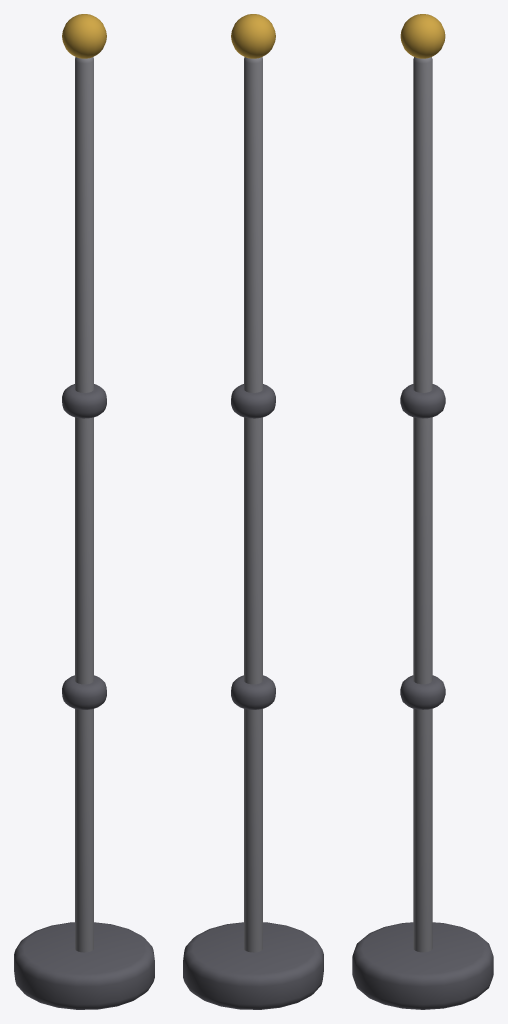
The model's file is lightning_rod.glb.
3 views of the same model, side by side, from view 1: azimuth 30°, elevation 25°; view 2: azimuth 150°, elevation 25°; view 3: azimuth 270°, elevation 25° (orthographic).
Parts seen in each view (by area): view 1: lightning_rod; view 2: lightning_rod; view 3: lightning_rod.
Boxes of the visible parts, box(x1,y1,x2,y2) form: lightning_rod: box(14, 14, 154, 1009); lightning_rod: box(183, 14, 323, 1009); lightning_rod: box(352, 14, 493, 1009).
Bounding box in the file's own units: 0.44 × 3.32 × 0.44.
